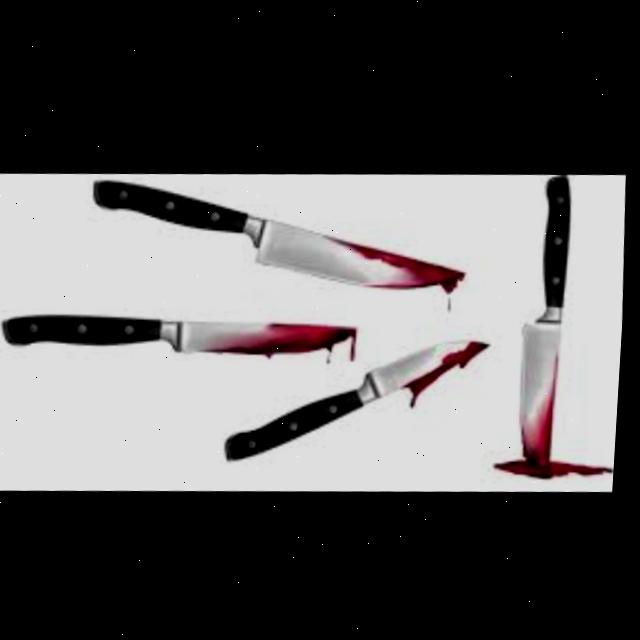Knife: (90, 163, 474, 302), (226, 325, 501, 466), (4, 299, 363, 371), (514, 168, 585, 462)
